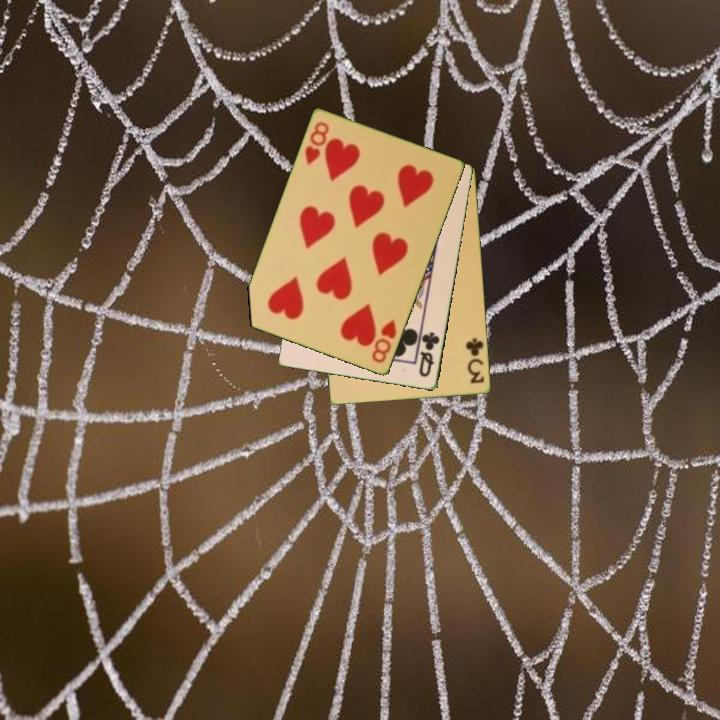3c: (463, 335, 488, 387)
8h: (368, 316, 400, 366), (301, 118, 332, 169)
Qc: (416, 329, 443, 380)
